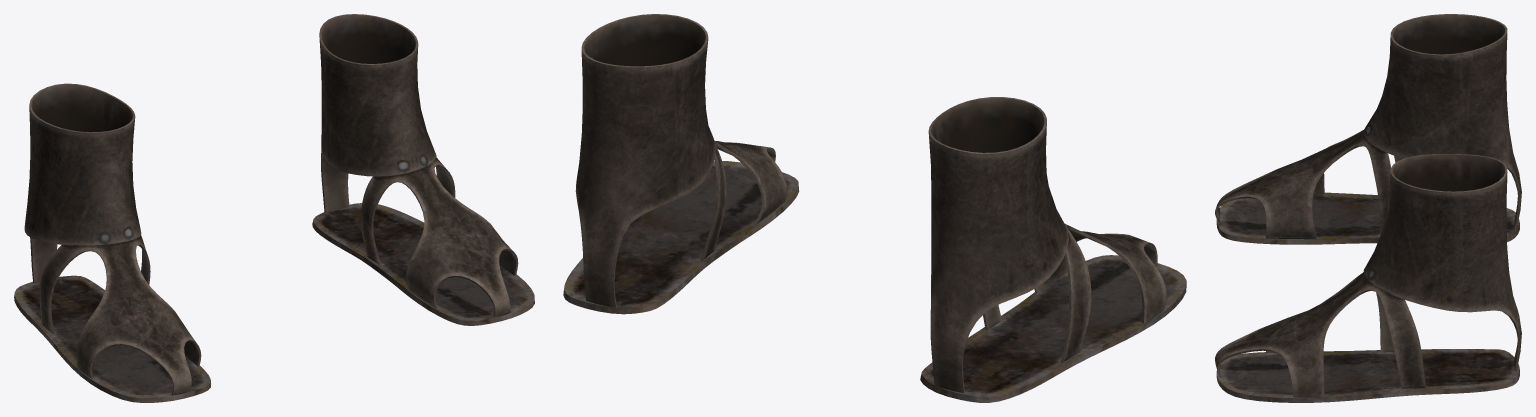
Rendered from sk_uruk_hai_shoes_a1.fbx.
The picture shows the model from 3 angles, left to right: view 1: azimuth 30°, elevation 25°; view 2: azimuth 150°, elevation 25°; view 3: azimuth 270°, elevation 25°; orthographic projection. The views are drawn at different scales.
Visible parts, largest first — view 1: sk_uruk_hai_shoes_a1; view 2: sk_uruk_hai_shoes_a1; view 3: sk_uruk_hai_shoes_a1.
Part boxes in pixels (left/top/right/bottom): sk_uruk_hai_shoes_a1: left=14, top=14, right=534, bottom=402; sk_uruk_hai_shoes_a1: left=563, top=14, right=1186, bottom=402; sk_uruk_hai_shoes_a1: left=1215, top=14, right=1521, bottom=402.
Size of the model in its own units: 0.4635 by 0.291 by 0.2123.
Materials: 1 (1 with a texture image).
